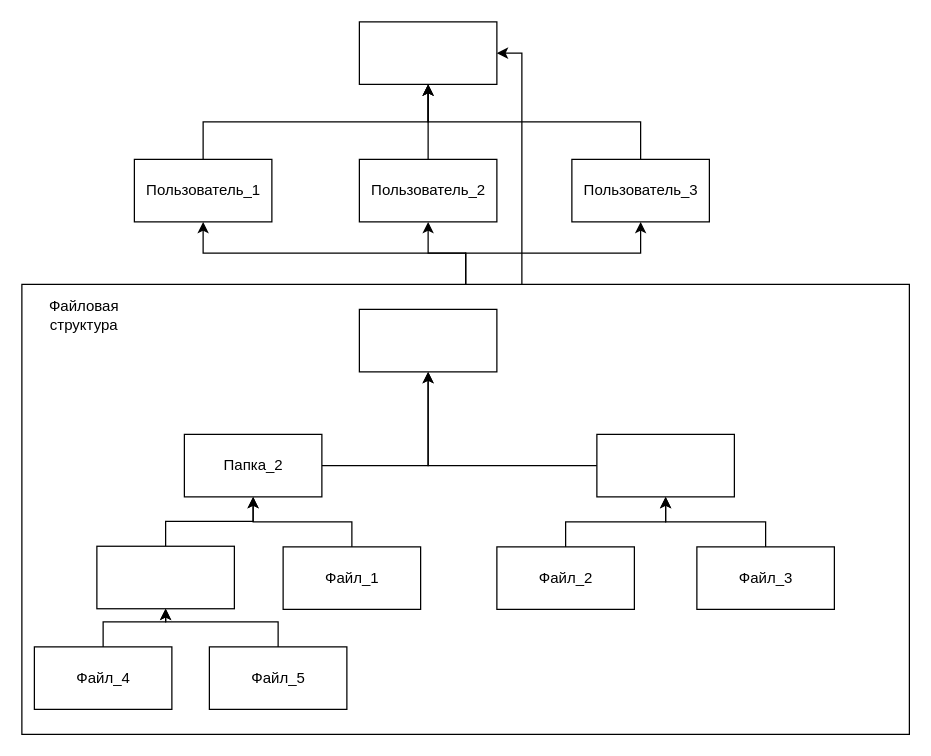
Some shapes in this 931 by 756 pixel diagram are drawn without their labels. The shapes that lost their labels are listed below. From the top down, each one's centre as x and y in pixels, then its label:
At (x=427, y=52): "Администратор".
At (x=427, y=340): "Папка_1".
At (x=665, y=465): "Папка_3".
At (x=165, y=577): "Папка_4".
